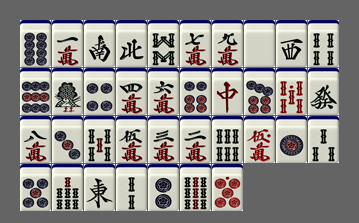0m: (244, 116, 275, 163)
0p: (212, 164, 243, 211)
0s: (276, 68, 307, 115)
1m: (52, 20, 83, 67)
1p: (276, 116, 307, 163)
1s: (52, 68, 83, 115)
1z: (84, 164, 115, 211)
2m: (180, 116, 211, 163)
2p: (148, 164, 179, 211)
2s: (116, 164, 147, 211)
2z: (84, 20, 115, 67)
3m: (148, 116, 179, 163)
3p: (52, 116, 83, 163)
3s: (308, 116, 339, 163)
3z: (276, 20, 307, 67)
4m: (116, 68, 147, 115)
4p: (84, 68, 115, 115)
4s: (308, 20, 339, 67)
4z: (116, 20, 147, 67)
5m: (116, 116, 147, 163)
5p: (20, 164, 51, 211)
5s: (84, 116, 115, 163)
5z: (244, 20, 275, 67)
6m: (148, 68, 179, 115)
6p: (180, 68, 211, 115)
6s: (212, 116, 243, 163)
6z: (308, 68, 339, 115)
7m: (180, 20, 211, 67)
7p: (244, 68, 275, 115)
7s: (52, 164, 83, 211)
7z: (212, 68, 243, 115)
8m: (20, 116, 51, 163)
8p: (20, 20, 51, 67)
8s: (148, 20, 179, 67)
9m: (212, 20, 243, 67)
9p: (20, 68, 51, 115)
9s: (180, 164, 211, 211)
